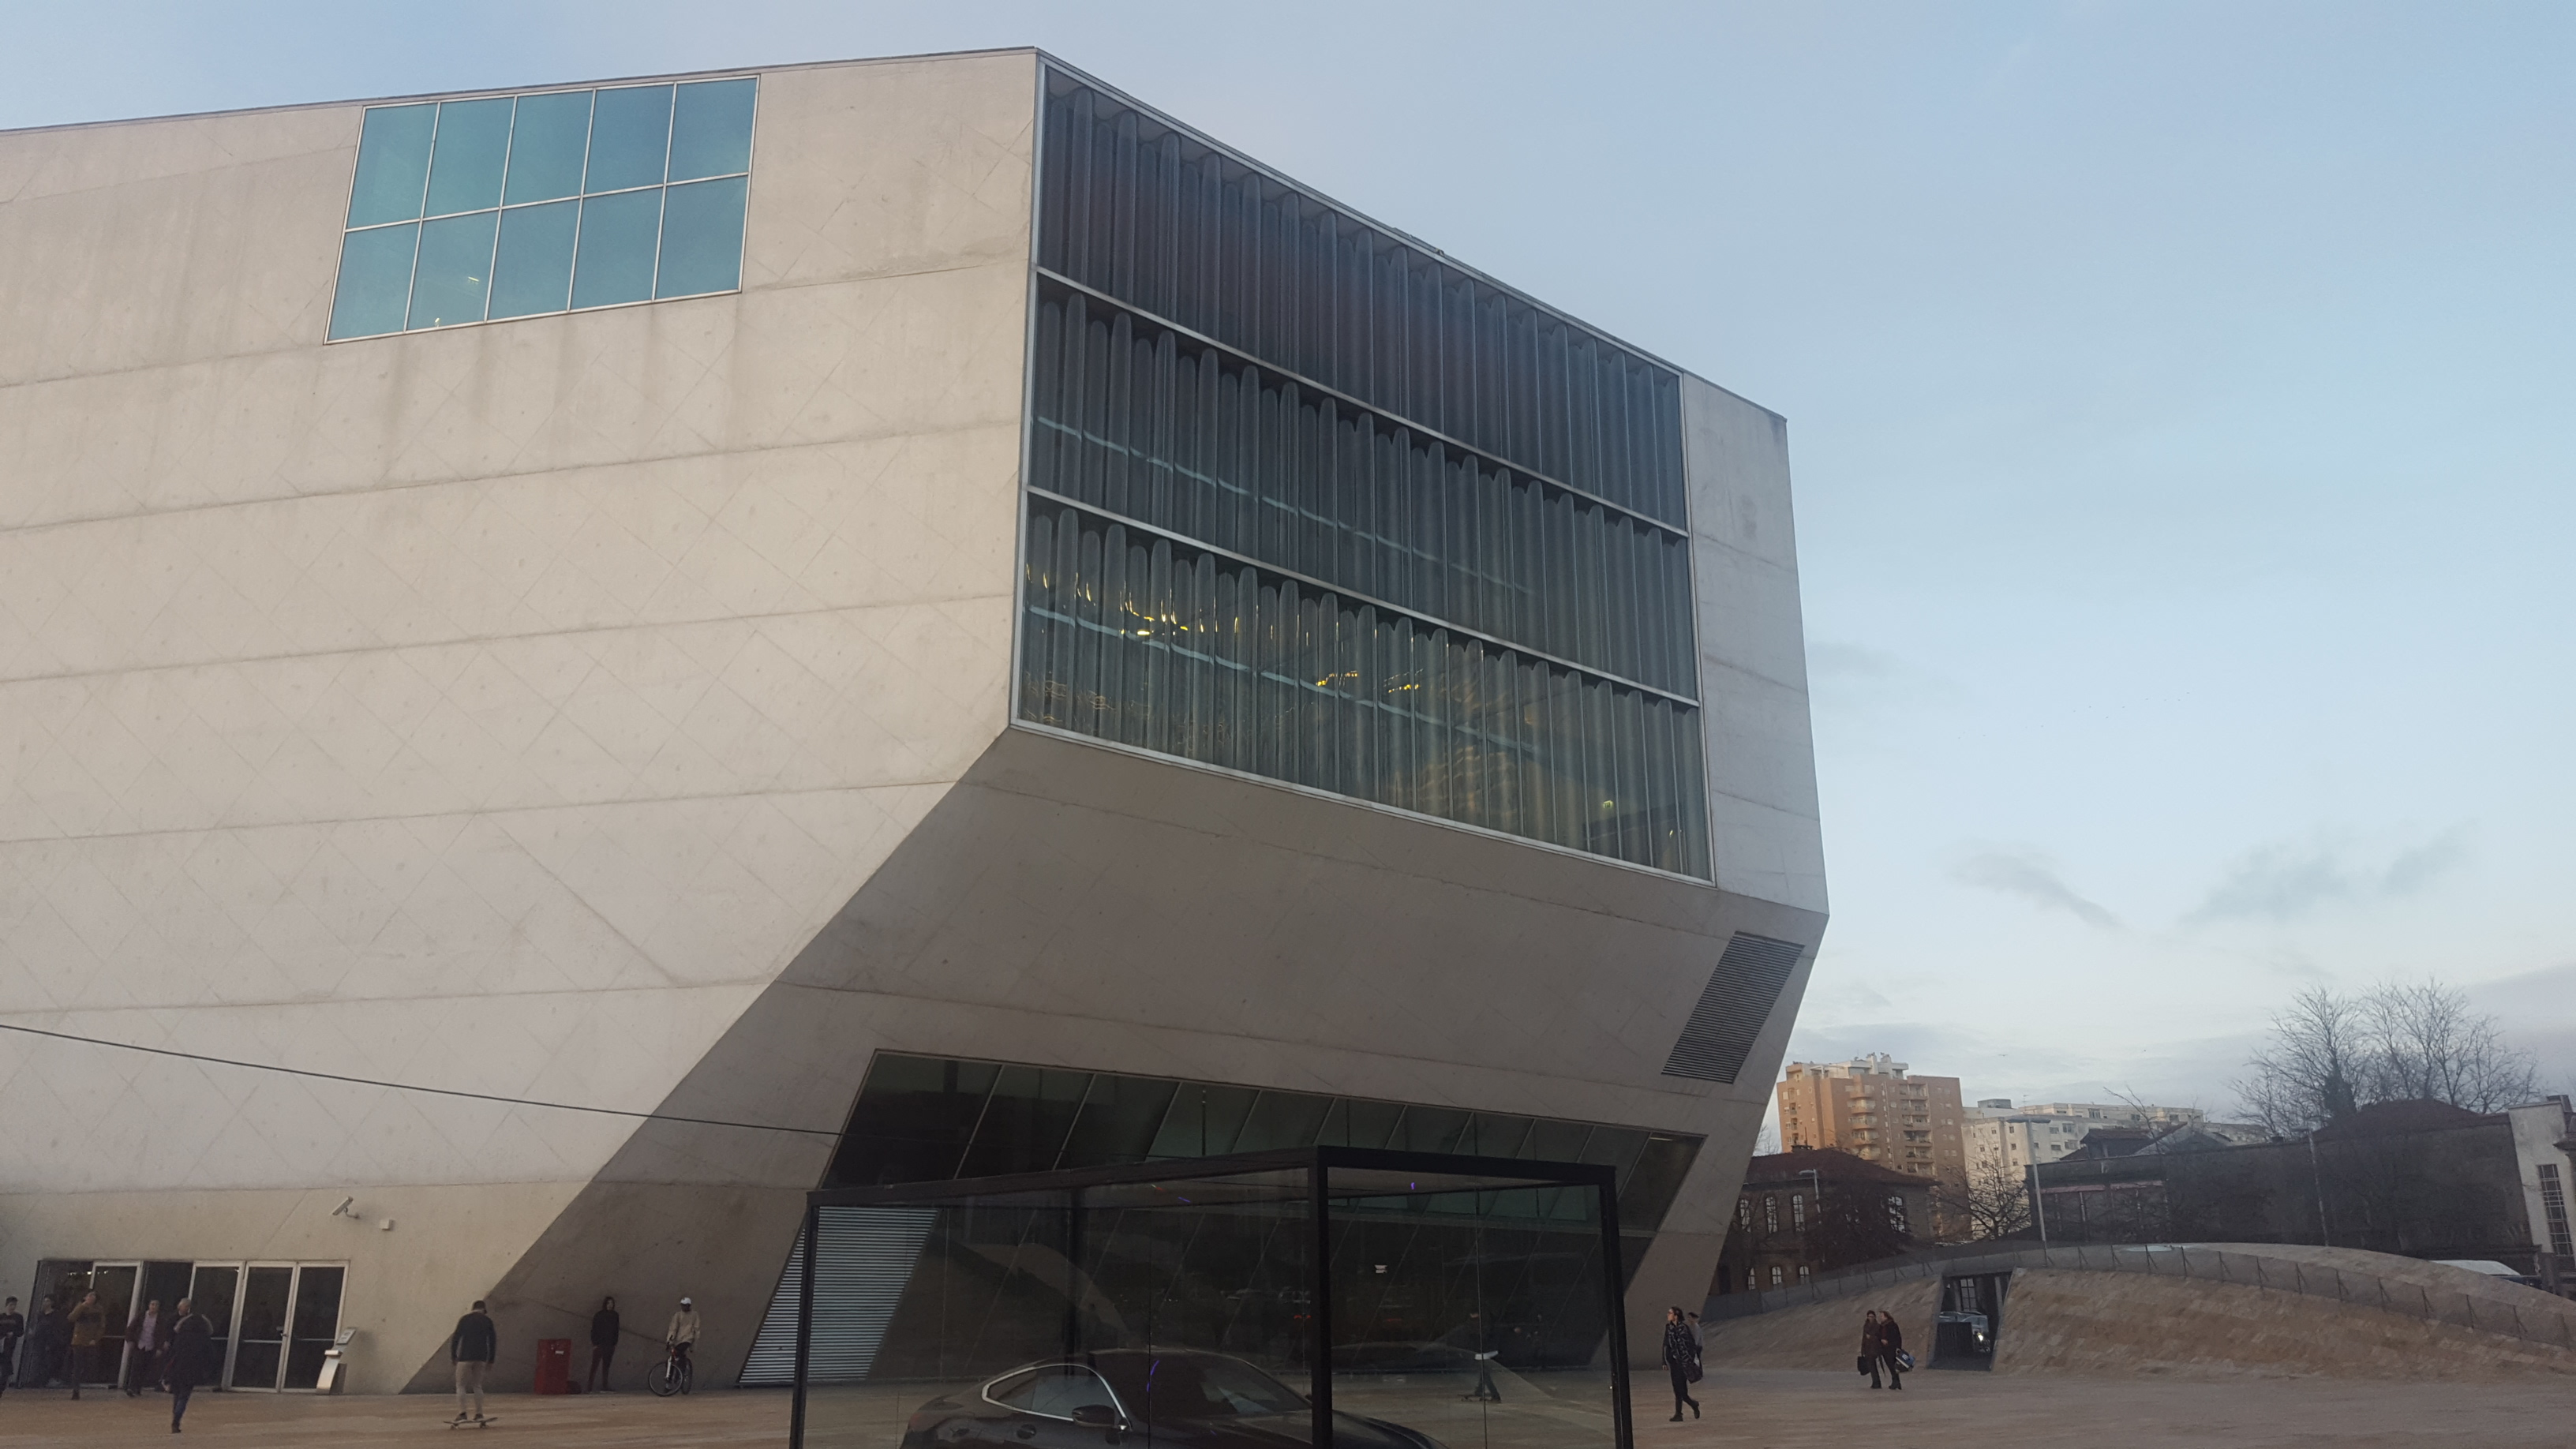musica: (0, 80, 1918, 1357)
